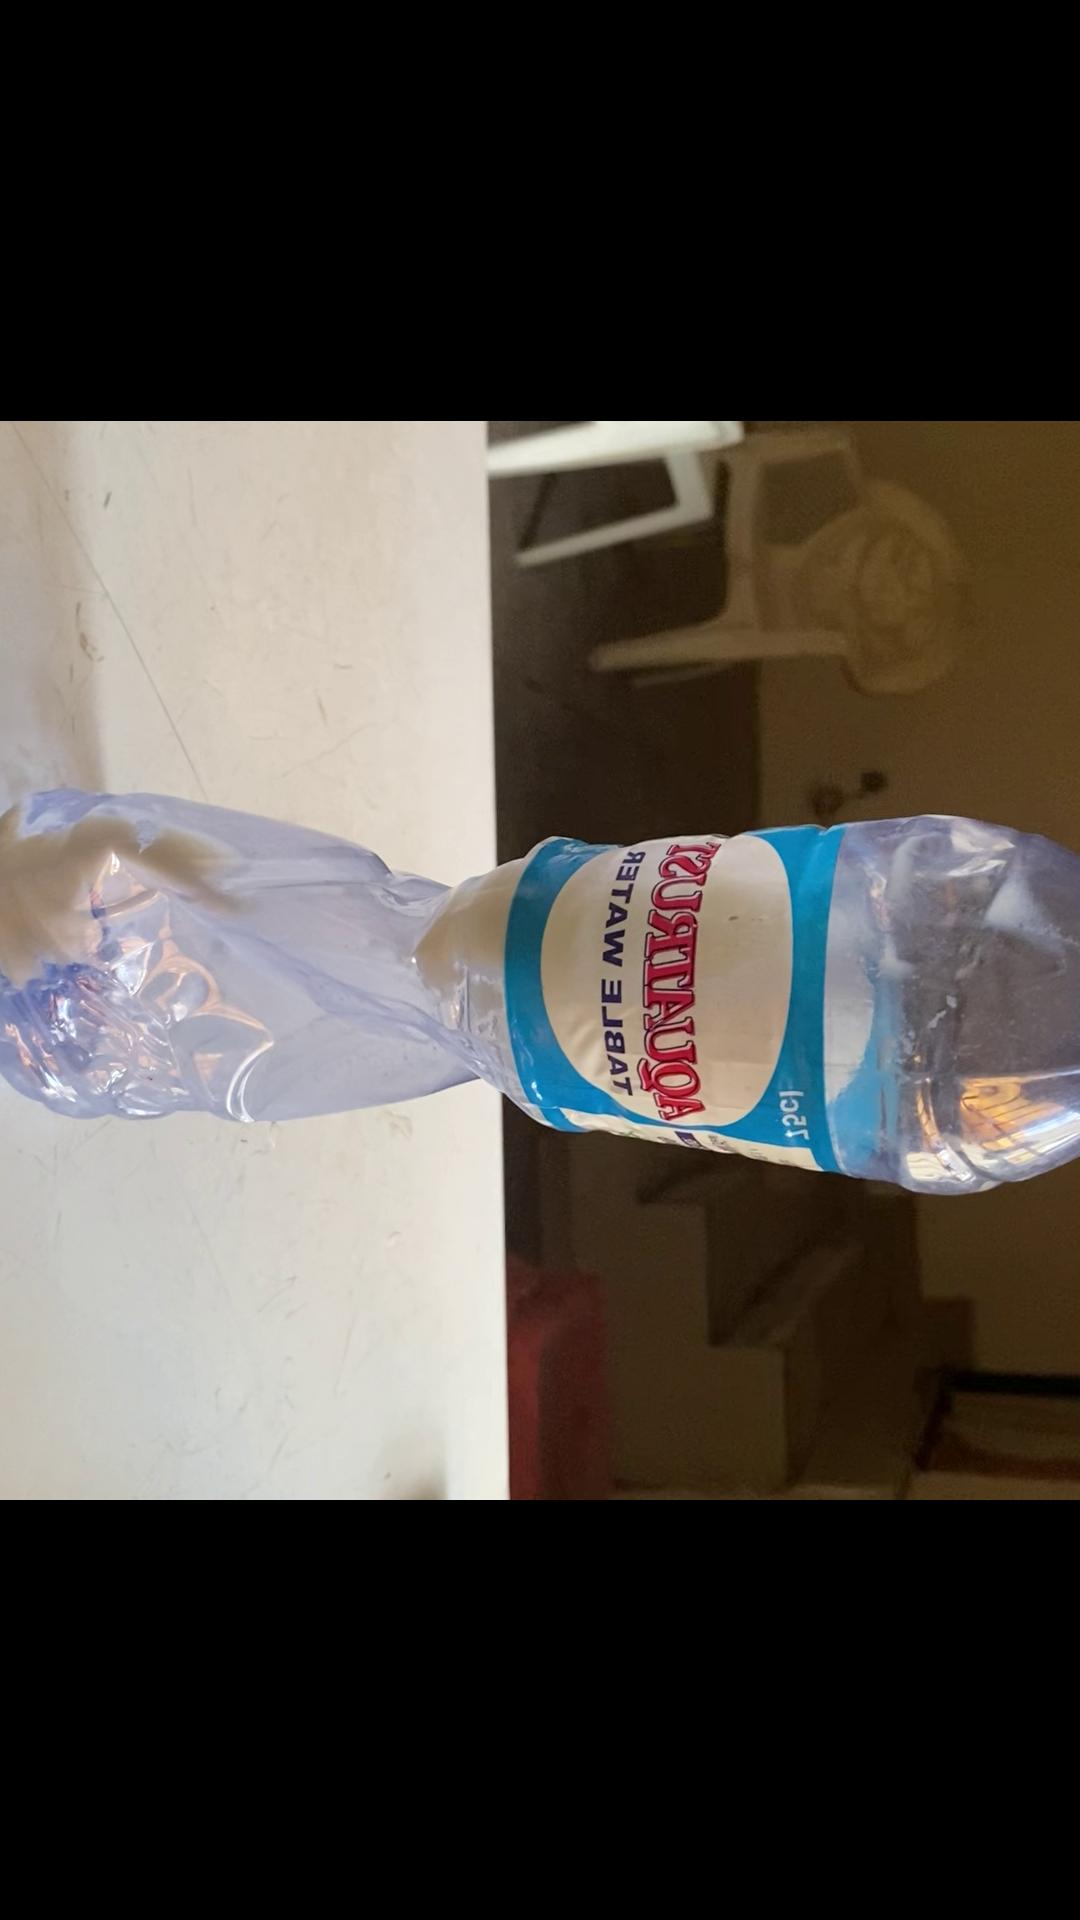crumbled: (0, 769, 1080, 1199)
label: (516, 836, 829, 1166)
